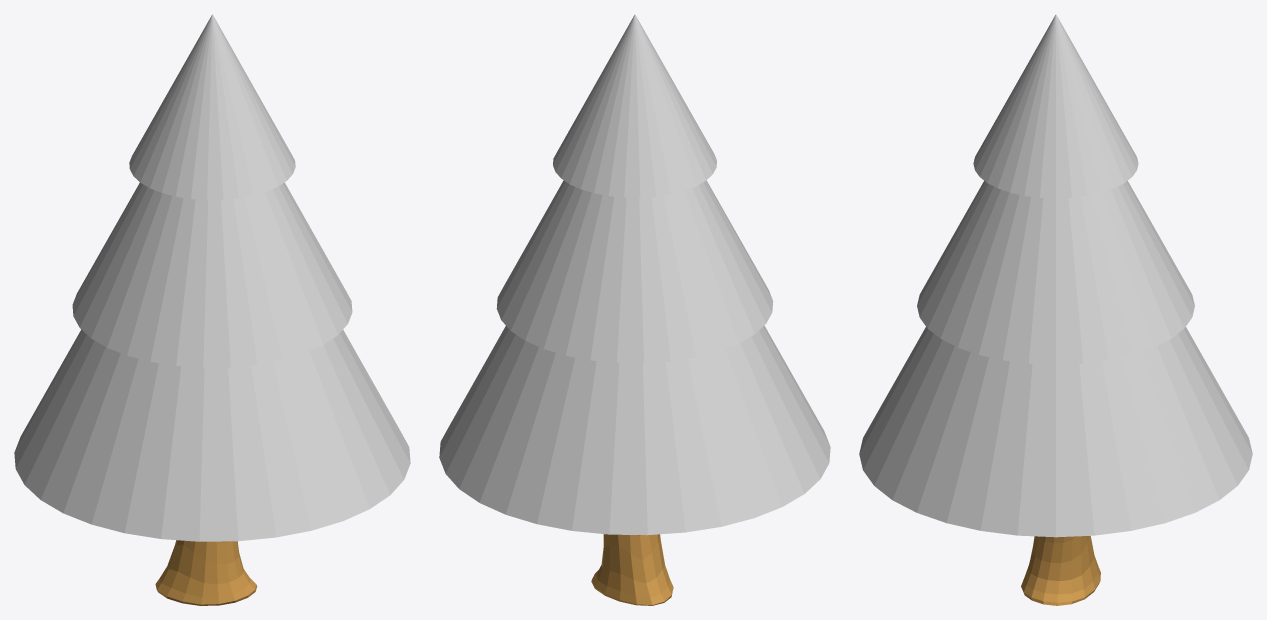
The model's file is Tree_4.fbx.
3 renders of one model, left to right at view 1: azimuth 30°, elevation 25°; view 2: azimuth 150°, elevation 25°; view 3: azimuth 270°, elevation 25°, orthographic.
Parts seen in each view (by area): view 1: Cone, Cone.001, Cone.002, Tree_2; view 2: Cone, Cone.001, Cone.002, Tree_2; view 3: Cone, Cone.001, Cone.002, Tree_2.
Boxes of the visible parts, x1,y1,x2,y2 form: Cone: [14, 329, 410, 541]; Cone.001: [72, 182, 352, 367]; Cone.002: [129, 14, 295, 200]; Tree_2: [155, 540, 257, 605]; Cone: [439, 325, 830, 535]; Cone.001: [496, 180, 773, 363]; Cone.002: [553, 14, 716, 197]; Tree_2: [591, 534, 673, 605]; Cone: [859, 327, 1252, 537]; Cone.001: [917, 181, 1194, 364]; Cone.002: [973, 14, 1138, 198]; Tree_2: [1021, 536, 1100, 605].
Size of the model in its own units: 676 by 1086 by 676.
